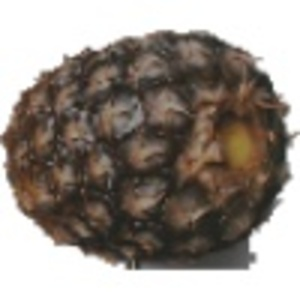abacaxi: (1, 14, 294, 271)
